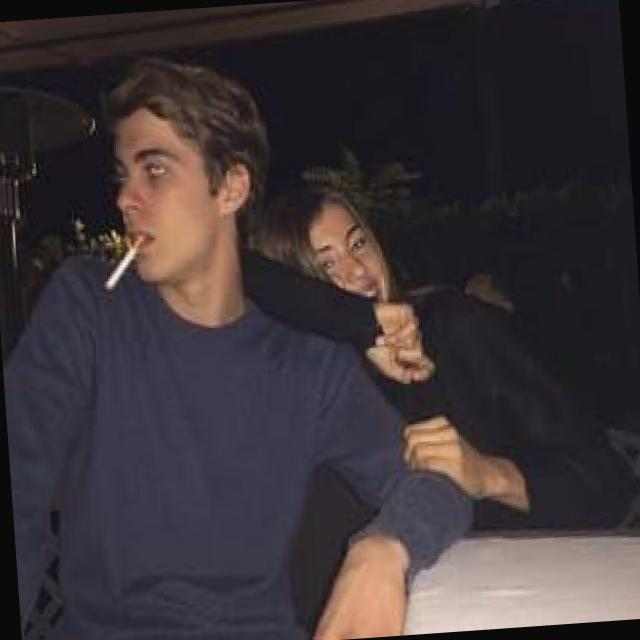smoke: (93, 224, 156, 302)
